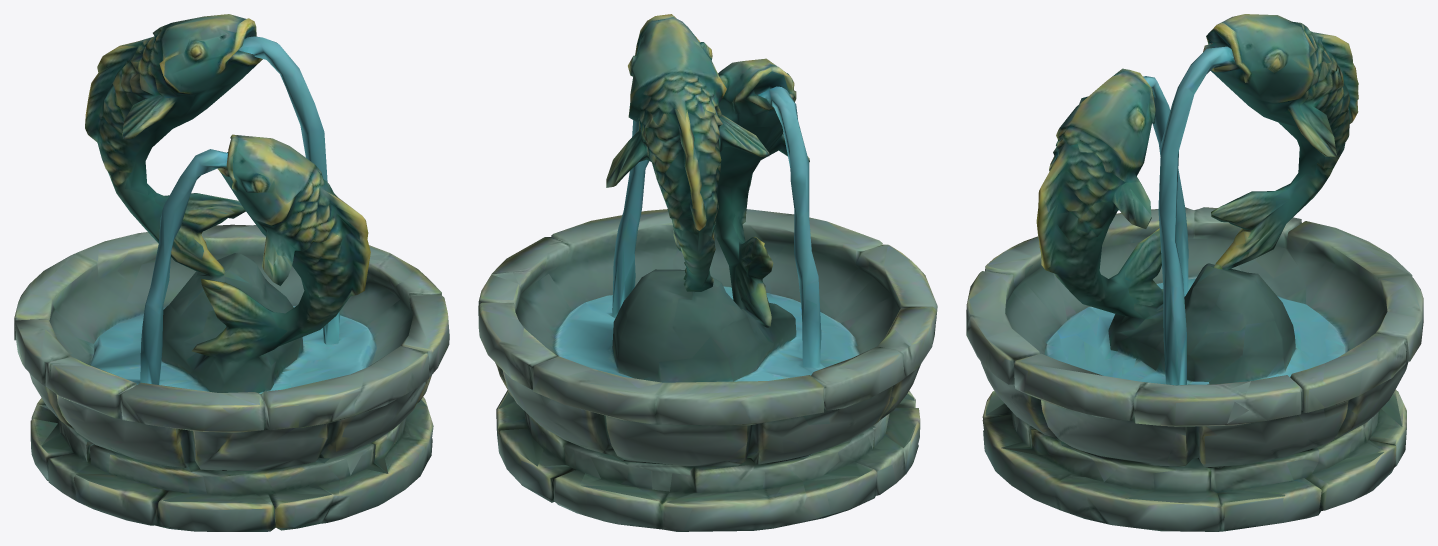
The model's file is prop_lantern_koi.glb.
3 views of the same model, side by side, from view 1: azimuth 30°, elevation 25°; view 2: azimuth 150°, elevation 25°; view 3: azimuth 270°, elevation 25° (orthographic). The views are drawn at different scales.
Parts seen in each view (by area): view 1: tripo_node_f85d8806-2188-4605-8b9c-92c2842021fe; view 2: tripo_node_f85d8806-2188-4605-8b9c-92c2842021fe; view 3: tripo_node_f85d8806-2188-4605-8b9c-92c2842021fe.
Boxes of the visible parts, x1=… form: tripo_node_f85d8806-2188-4605-8b9c-92c2842021fe: x1=14, y1=14, x2=449, y2=531; tripo_node_f85d8806-2188-4605-8b9c-92c2842021fe: x1=478, y1=14, x2=937, y2=531; tripo_node_f85d8806-2188-4605-8b9c-92c2842021fe: x1=966, y1=14, x2=1423, y2=531.
Size of the model in its own units: 0.9368 by 0.978 by 0.9364.
Materials: 1 (1 with a texture image).
